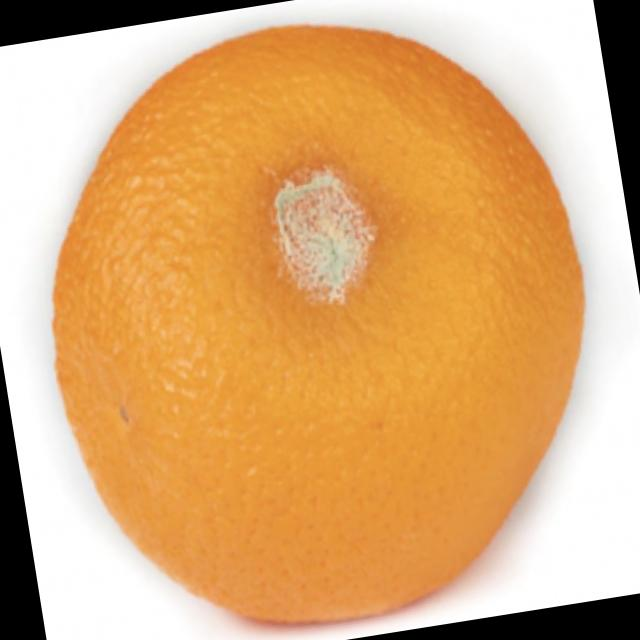rotten-orange: (10, 0, 630, 640)
